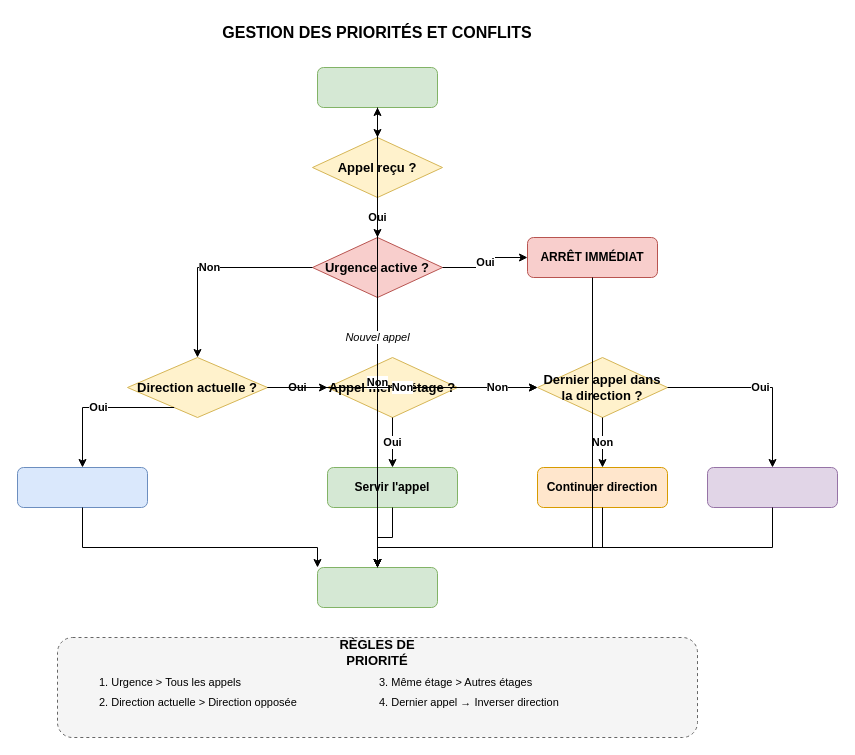
The diagram is 855 pixels wide and 755 high, and some of its shapes have lost their labels. Here are the shapes that lost their labels. From the top down, the box of each, then its label:
(316, 66, 438, 108): DÉBUT
(16, 466, 148, 508): Servir en priorité
(706, 466, 838, 508): Inverser direction
(316, 566, 438, 608): FIN
